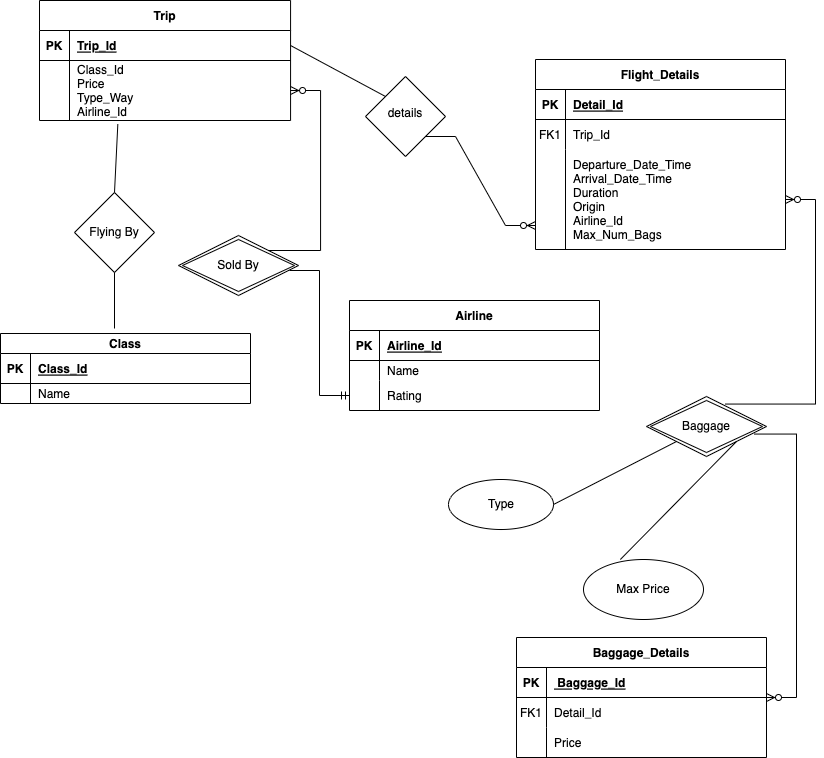entity: (536, 61, 784, 250), (39, 2, 292, 121), (518, 638, 768, 758), (350, 299, 602, 409), (1, 335, 251, 405)
ident_rel: (178, 235, 298, 296), (647, 396, 766, 456)
many: (504, 220, 537, 233), (290, 83, 318, 98), (765, 692, 795, 702), (786, 194, 813, 205)
one: (320, 390, 350, 403)
rel: (364, 78, 446, 155), (75, 193, 152, 271)
rel_attr: (583, 558, 706, 621), (448, 480, 552, 531)
